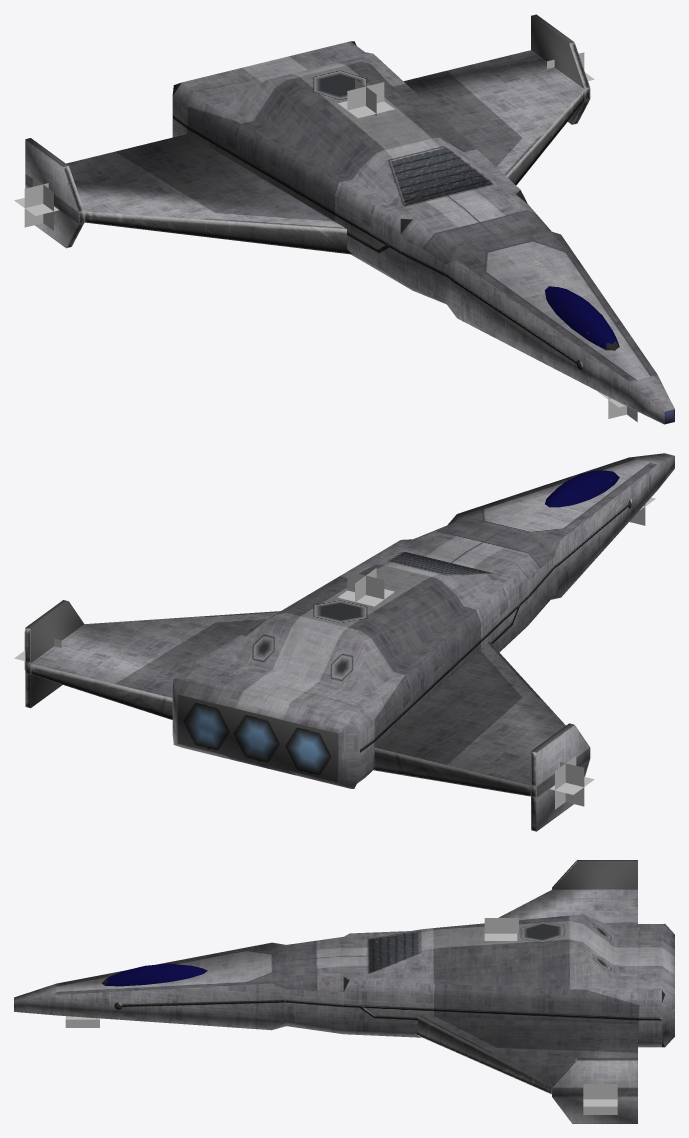
The model's file is franklin.obj.
3 views of the same model, one above another, from view 1: azimuth 30°, elevation 25°; view 2: azimuth 150°, elevation 25°; view 3: azimuth 270°, elevation 25° (orthographic). The views are drawn at different scales.
Bounding box in the file's own units: 3.19 × 0.7453 × 4.06.
